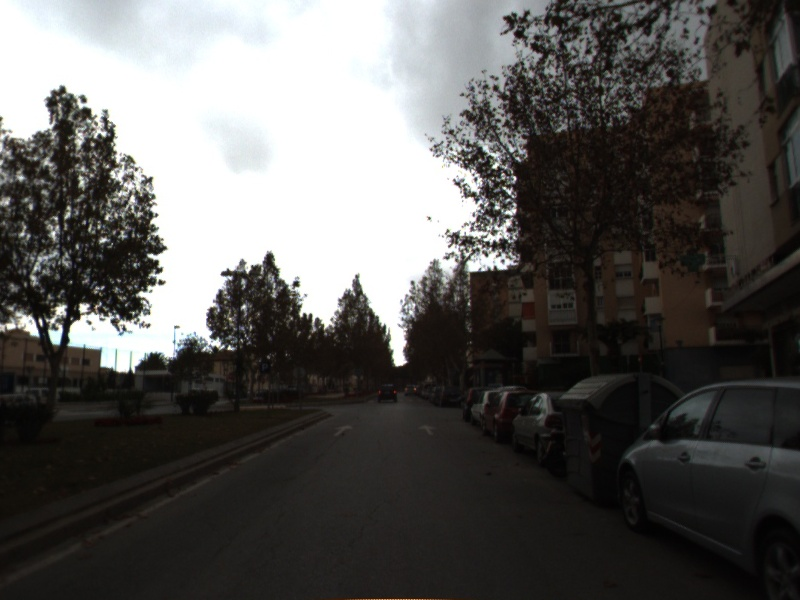STRAIGHT: (331, 423, 357, 439), (416, 422, 440, 437)
